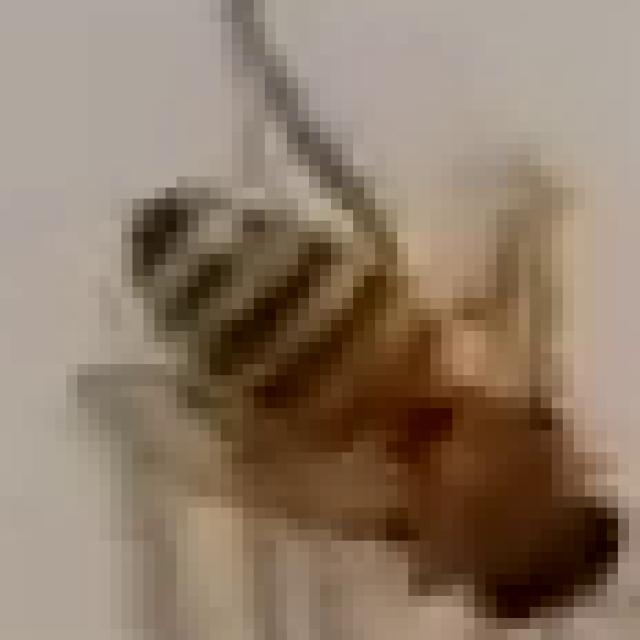honeybee: (77, 110, 629, 640)
